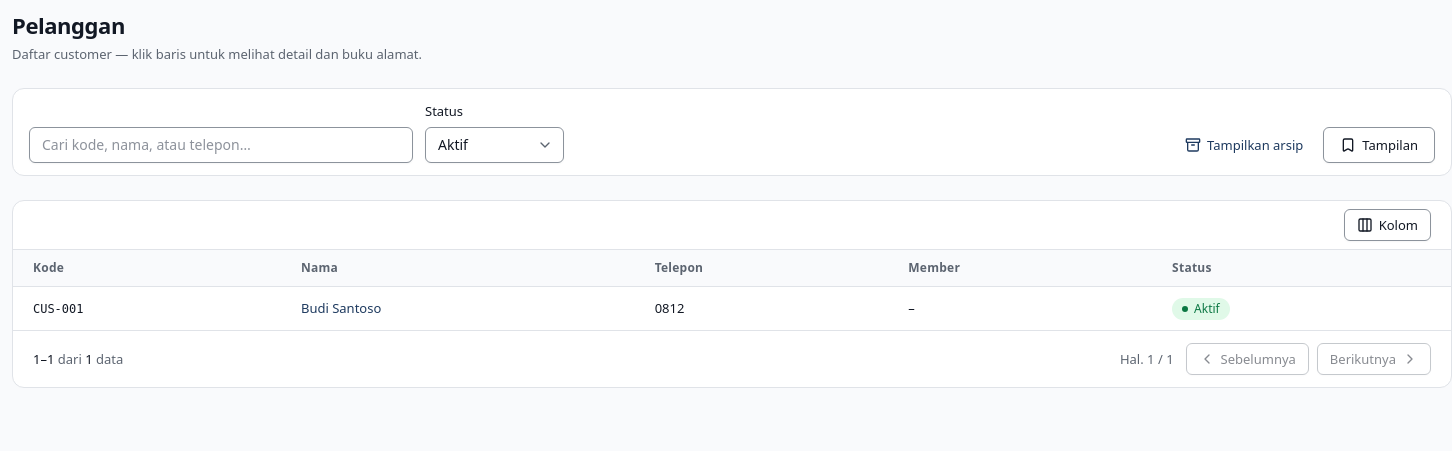
Scenario: daftar pelanggan — default Aktif + akses arsip › 'Tampilkan arsip' membuka arsip dengan kolom tanggal arsip; 'Semua status' tak mengirim filter
expect the link "Budi Santoso" is shown: met, box [301, 299, 381, 317]
Click the button "Tampilkan arsip" at (1244, 144), box [1173, 128, 1315, 160]
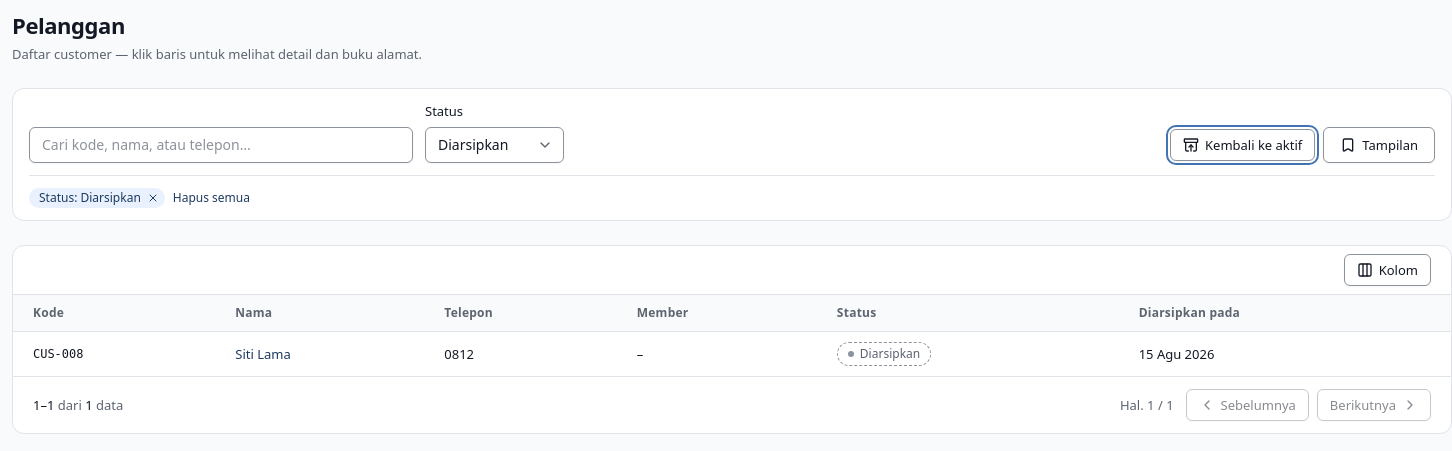
expect the link "Siti Lama" is shown: met, box [235, 344, 291, 362]
expect the column heading "Diarsipkan pada" is shown: met, box [1123, 294, 1451, 331]
expect the text "15 Agu 2026" is shown: met, box [1123, 332, 1451, 376]
Select "Semua status" in the dropdown labelled "Status" at (494, 144), box [425, 126, 564, 162]
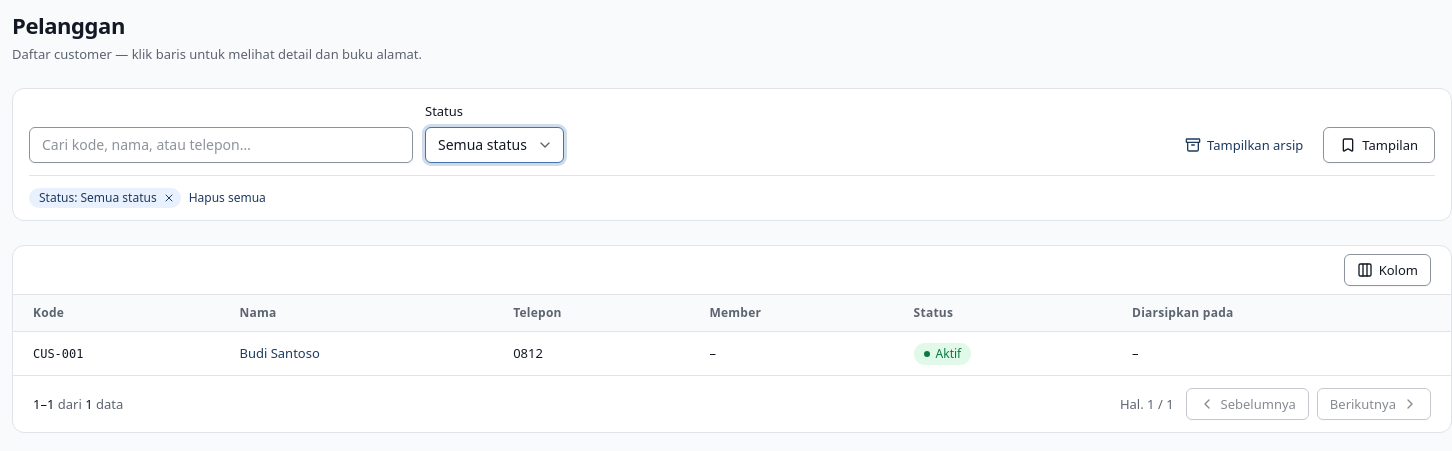
expect the text "Status: Semua status" is shown: met, box [29, 188, 181, 208]
